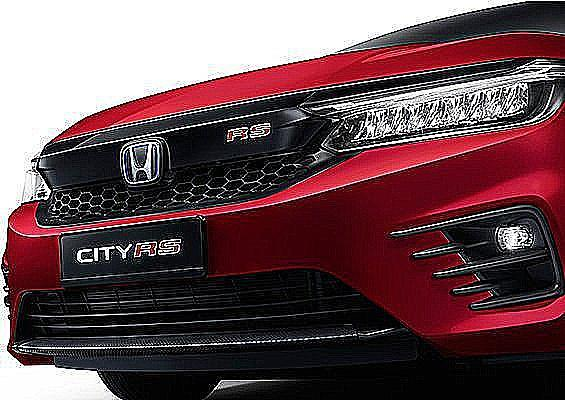Car hood: (46, 30, 565, 143)
Front bumper: (0, 135, 565, 374)
Headlight - -L-: (295, 52, 565, 153)
Headlight - -R-: (9, 142, 71, 205)
